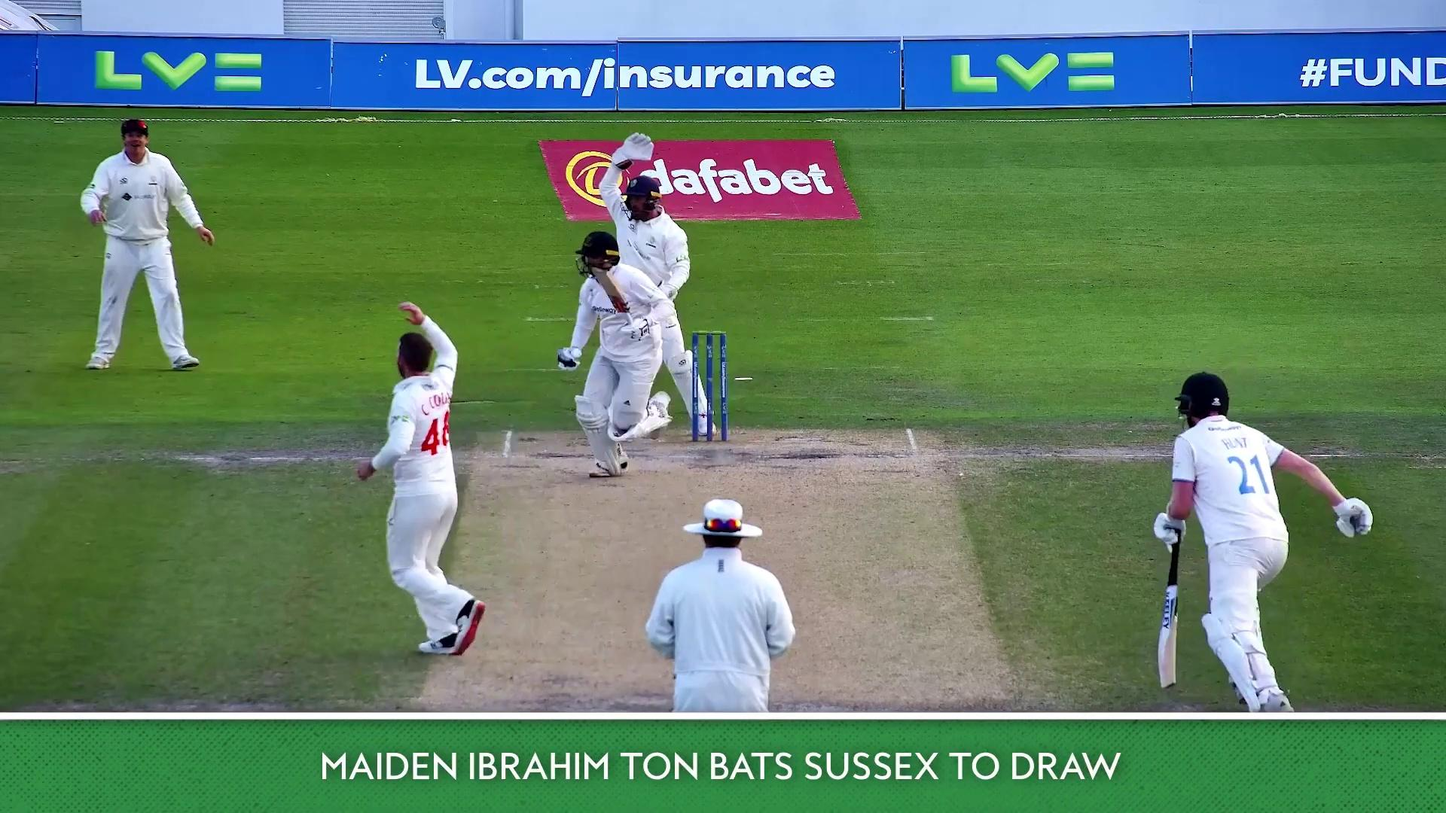batsman: (576, 232, 677, 470)
